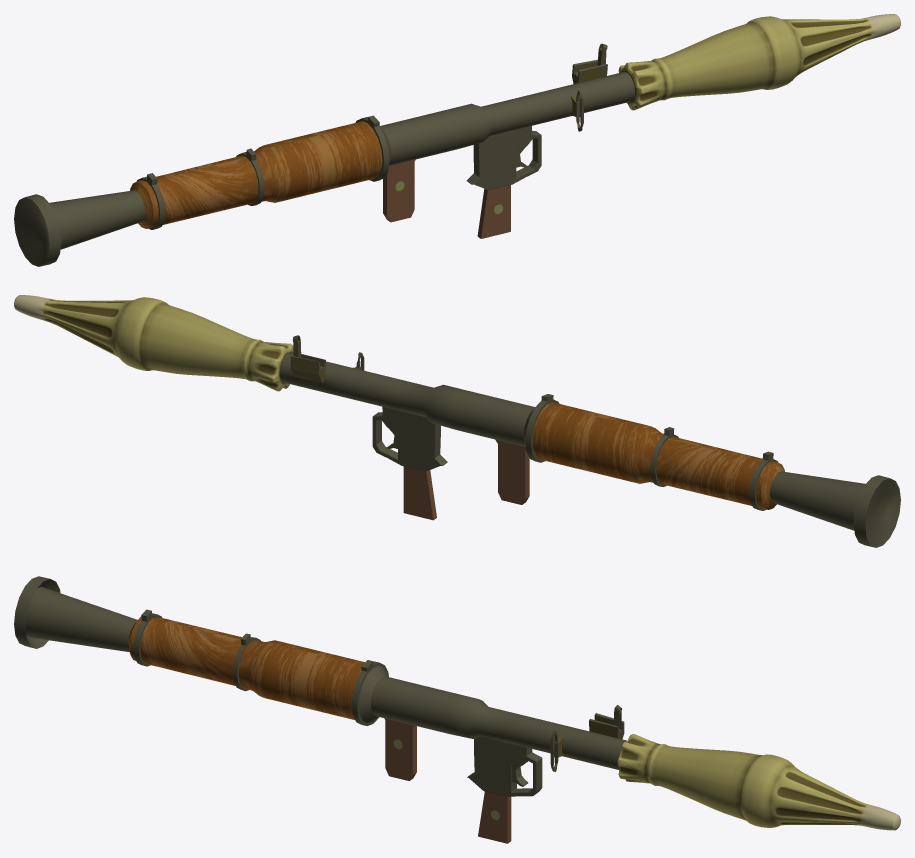
Rendered from Rocket.glb.
The picture shows the model from 3 angles, top to bottom: view 1: azimuth 30°, elevation 25°; view 2: azimuth 150°, elevation 25°; view 3: azimuth 330°, elevation 25°; orthographic projection.
Visible parts, largest first — view 1: lanzacohetes; view 2: lanzacohetes; view 3: lanzacohetes.
Part boxes in pixels (x1,y1,x2,y2): lanzacohetes: (14,14,900,266); lanzacohetes: (14,295,900,547); lanzacohetes: (14,576,900,843).
Bounding box in the file's own units: 5.76 × 0.9967 × 0.4187.
1 material, 1 textured.
